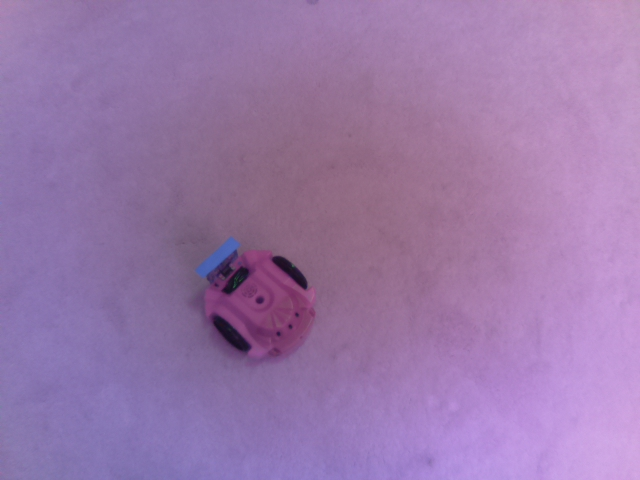board: (190, 237, 246, 281)
chassis: (195, 232, 321, 363)
